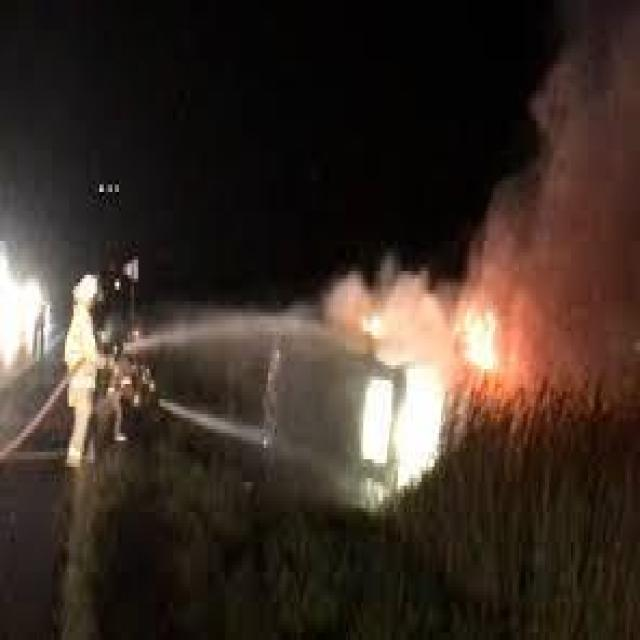fire: (433, 246, 528, 428)
smoke: (480, 59, 632, 400)
